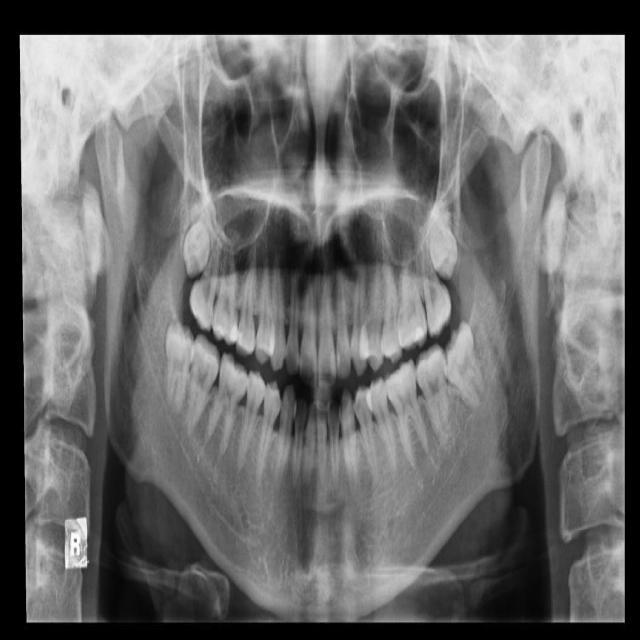3M ESPE Implant: (181, 209, 213, 281)
52: (393, 301, 431, 353), (210, 297, 239, 347), (317, 338, 337, 388), (235, 311, 256, 358), (300, 339, 317, 388), (336, 336, 351, 379), (285, 333, 299, 375)
73: (585, 546, 593, 560)
BioHorizons Implant: (412, 219, 456, 341)
BioLife Implant: (429, 200, 458, 280)
Biomet 3i Implant: (432, 319, 493, 414)
Blue Sky Bio Implant: (413, 342, 452, 448)
Caries: (185, 228, 225, 332)
Implant: (184, 332, 224, 433)
Keystone Dental Implant: (165, 321, 195, 411)
